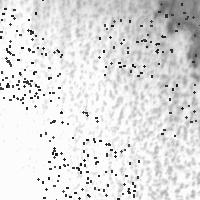pitted_surface: (2, 10, 196, 198), (78, 142, 138, 200), (40, 111, 99, 168), (98, 19, 157, 75), (5, 45, 61, 102), (153, 1, 198, 68), (155, 3, 200, 63), (0, 48, 41, 107), (161, 84, 200, 135), (0, 0, 42, 41), (37, 171, 96, 200)
